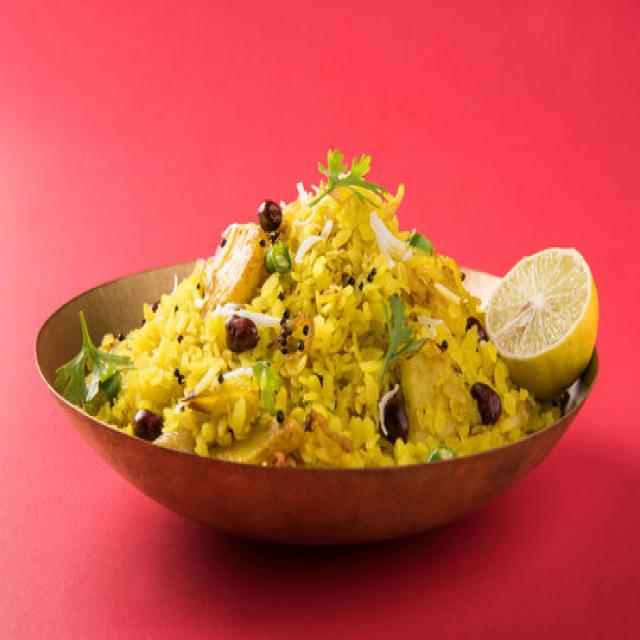POHA: (76, 172, 560, 459)
